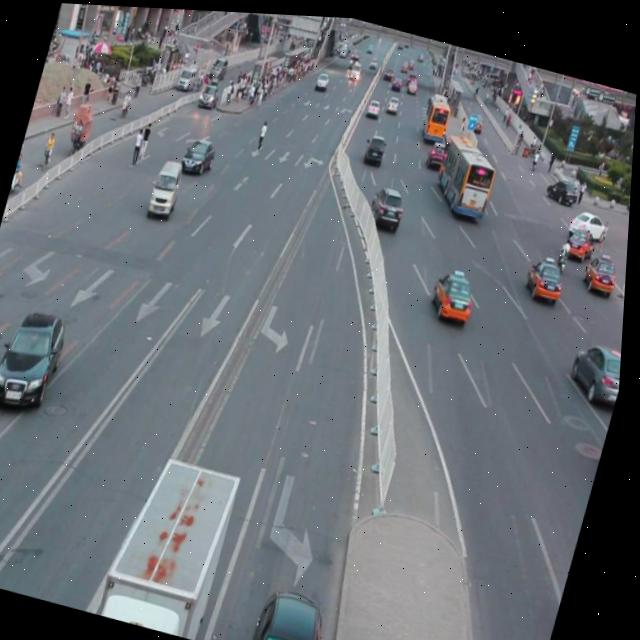bus: (102, 442, 250, 640)
car: (0, 300, 76, 417), (253, 576, 344, 640), (567, 328, 626, 399), (430, 262, 482, 321), (367, 177, 410, 227), (524, 248, 568, 295), (582, 244, 623, 291), (180, 132, 219, 175)
truck: (148, 152, 189, 218)
